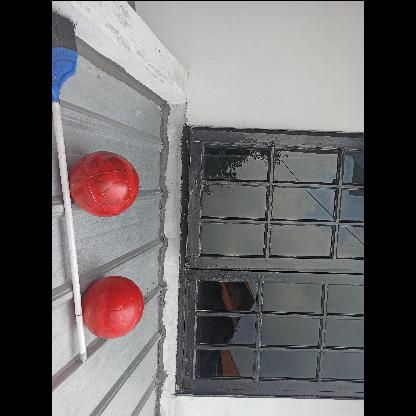red_ball: (72, 151, 140, 219), (81, 275, 145, 339)
